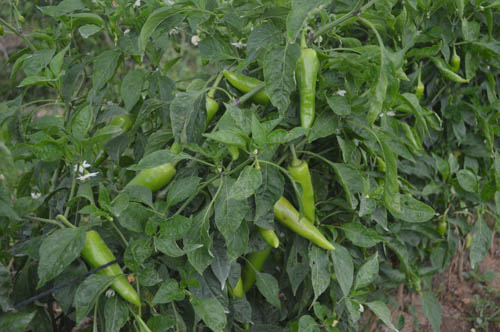ChiliPepper: (79, 233, 144, 303), (271, 200, 334, 248), (297, 49, 320, 130), (223, 68, 275, 101), (287, 159, 315, 217), (237, 242, 269, 289), (132, 163, 177, 187)
